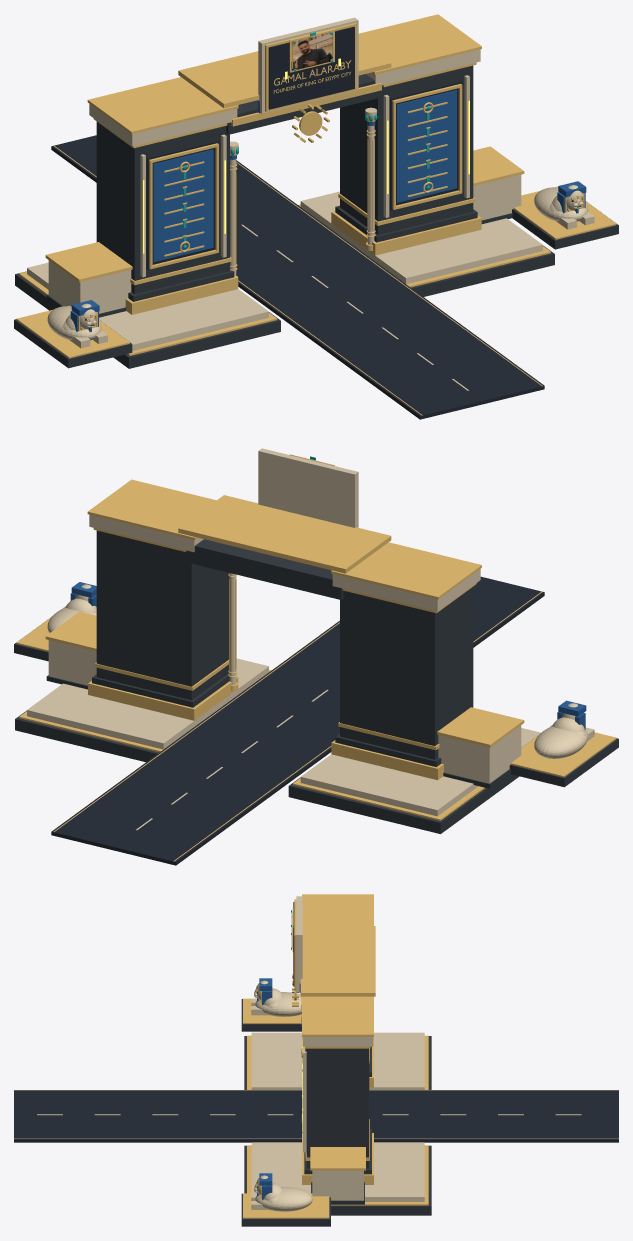
File: royal_gate.glb
3 renders of one model, top to bottom at view 1: azimuth 30°, elevation 25°; view 2: azimuth 150°, elevation 25°; view 3: azimuth 270°, elevation 25°, orthographic. The views are drawn at different scales.
Visible parts, largest first — view 1: Continuous level vehicle roadway, Left pylon main mass, Right pylon main mass, Right upper stone terrace, Left upper stone terrace, Right blue panel field, Left blue panel field, Left pylon crown gold cap, Right pylon crown gold cap, Royal crest dark inset, Central lintel top cornice, Left monumental foundation (+33 smaller); view 2: Continuous level vehicle roadway, Left pylon main mass, Right pylon main mass, Central lintel top cornice, Right upper stone terrace, Royal crest backing, Left upper stone terrace, Left pylon crown gold cap, Central lintel lower black beam, Right pylon crown gold cap, Left monumental foundation, Left wing wall (+18 smaller); view 3: Continuous level vehicle roadway, Right pylon main mass, Left upper stone terrace, Right upper stone terrace, Central lintel top cornice, Right pylon crown gold cap, Left pylon crown gold cap, Right wing wall, Right monumental foundation, Right wing wall gold coping, Right sphinx plinth gold reveal, Right sphinx guardian plinth (+10 smaller).
Boxes of the visible parts, x1,y1,x2,y2 form: Continuous level vehicle roadway: (51,135,544,419); Left pylon main mass: (96,122,229,294); Right pylon main mass: (340,65,473,234); Right upper stone terrace: (300,191,542,284); Left upper stone terrace: (27,262,268,350); Right blue panel field: (396,90,456,202); Left blue panel field: (153,149,213,262); Left pylon crown gold cap: (87,77,238,134); Right pylon crown gold cap: (358,14,481,74); Royal crest dark inset: (268,26,354,109); Central lintel top cornice: (178,39,391,108); Left monumental foundation: (15,271,280,368); Continuous level vehicle roadway: (51,576,544,865); Left pylon main mass: (340,587,473,759); Right pylon main mass: (96,530,229,700); Central lintel top cornice: (178,495,391,573); Right upper stone terrace: (27,658,268,749); Royal crest backing: (258,448,358,527); Left upper stone terrace: (300,728,540,816); Left pylon crown gold cap: (331,542,481,599); Central lintel lower black beam: (186,539,343,599); Right pylon crown gold cap: (87,479,216,540); Left monumental foundation: (288,774,519,833); Left wing wall: (438,725,521,783); Continuous level vehicle roadway: (14,1090,618,1142); Right pylon main mass: (306,1048,369,1168); Left upper stone terrace: (251,1032,424,1089); Right upper stone terrace: (251,1142,424,1201); Central lintel top cornice: (300,926,375,996); Right pylon crown gold cap: (302,996,373,1036); Left pylon crown gold cap: (302,894,373,925); Right wing wall: (312,1170,363,1200); Right monumental foundation: (244,1145,431,1215); Right wing wall gold coping: (310,1147,365,1170); Right sphinx plinth gold reveal: (243,1193,329,1218); Right sphinx guardian plinth: (241,1193,330,1226).
Bounding box in the file's own units: 36.2 × 16.51 × 42.
Materials: 8 (1 with a texture image).
